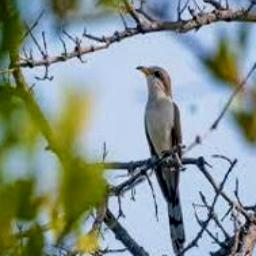Cuckoo: (135, 65, 186, 255)
